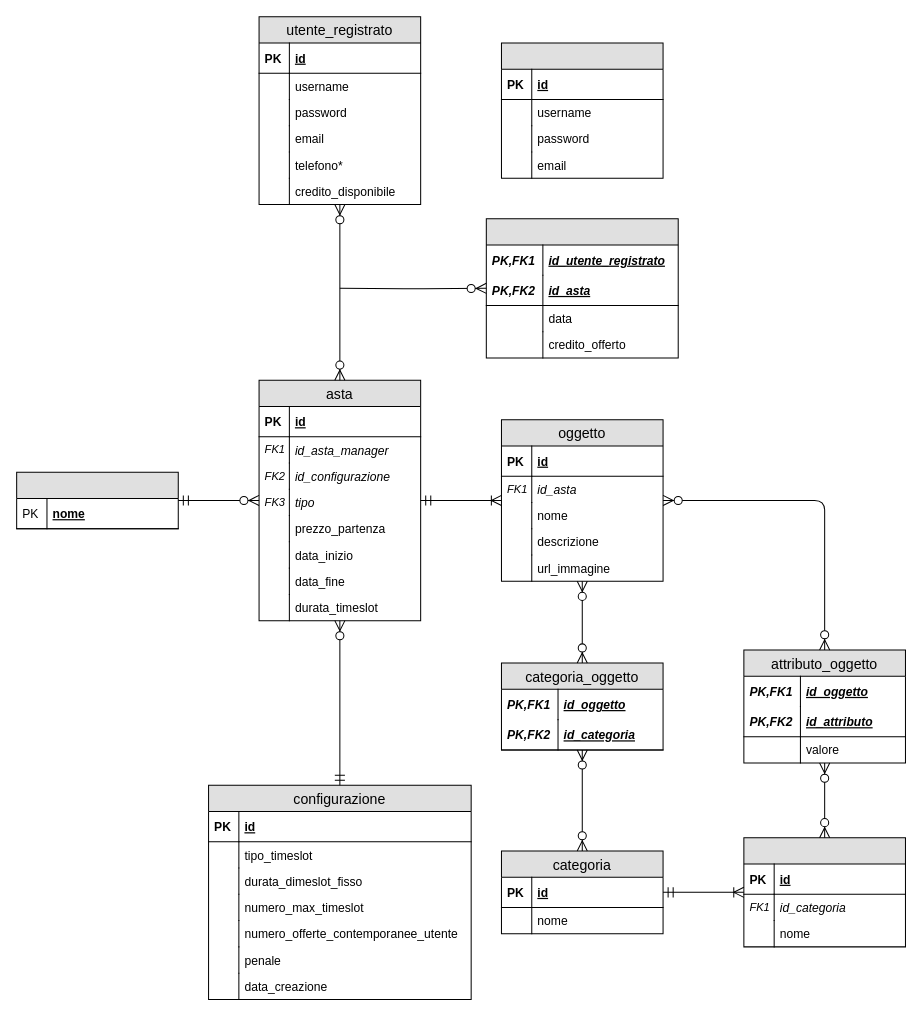
Some shapes in this 922 by 1016 pixel diagram are drawn without their labels. Each missing label, with the box of its shape:
amministratore: (500, 42, 663, 178)
attributo: (743, 837, 905, 947)
offerta: (485, 218, 678, 358)
tipo_asta: (16, 471, 178, 529)
